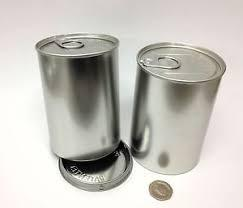Tin: (28, 22, 135, 191), (126, 25, 225, 173)
